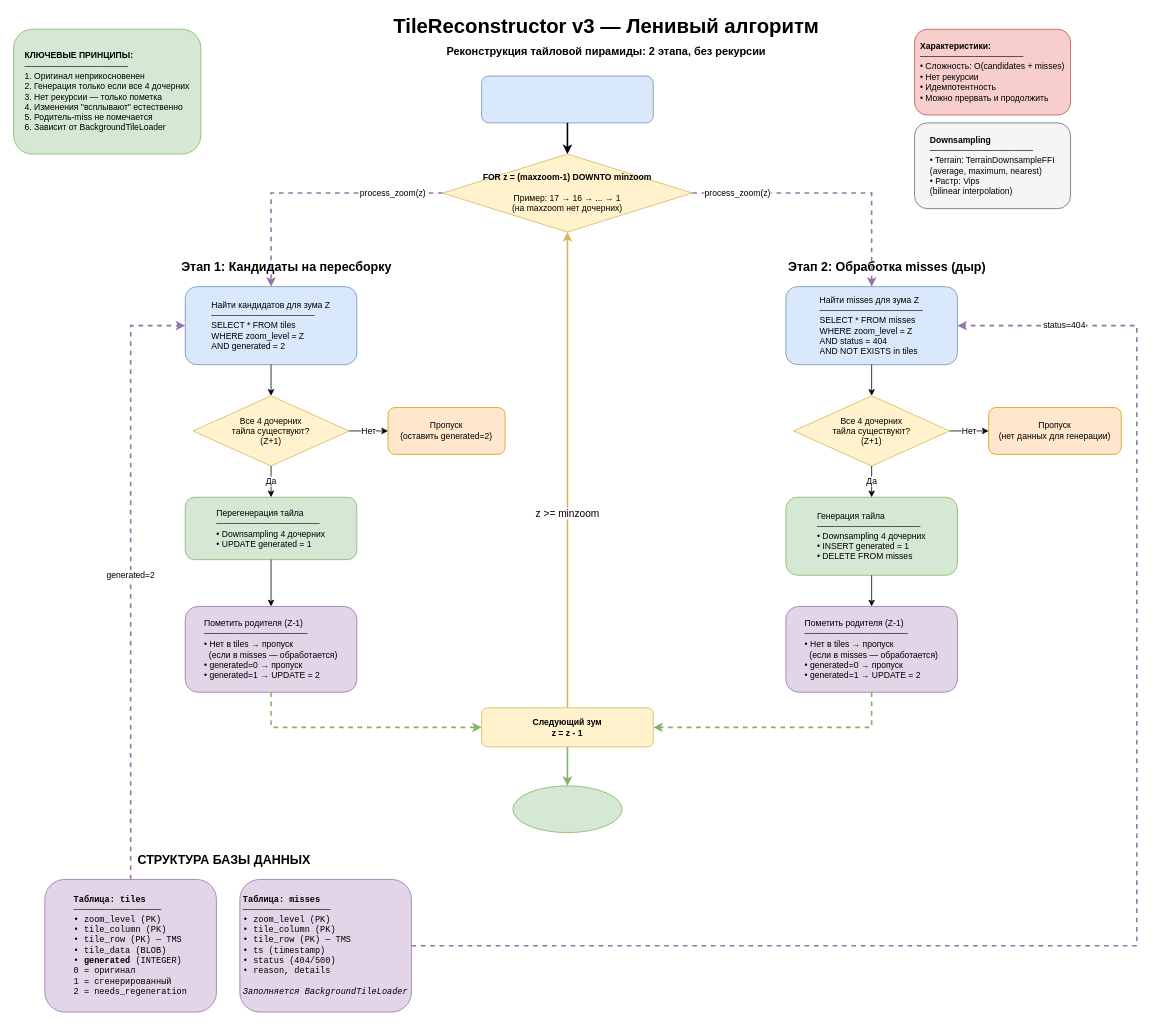
This 1158x1026 diagram has some shape labels left out. The shapes that lost their labels are listed below. From the top down, each one's box as (x1, y1, x2, y2) in pixels, then its label:
(481, 75, 653, 123): Периодический запуск (после BackgroundTileLoader)
(512, 785, 622, 833): ГОТОВО (z < minzoom)
